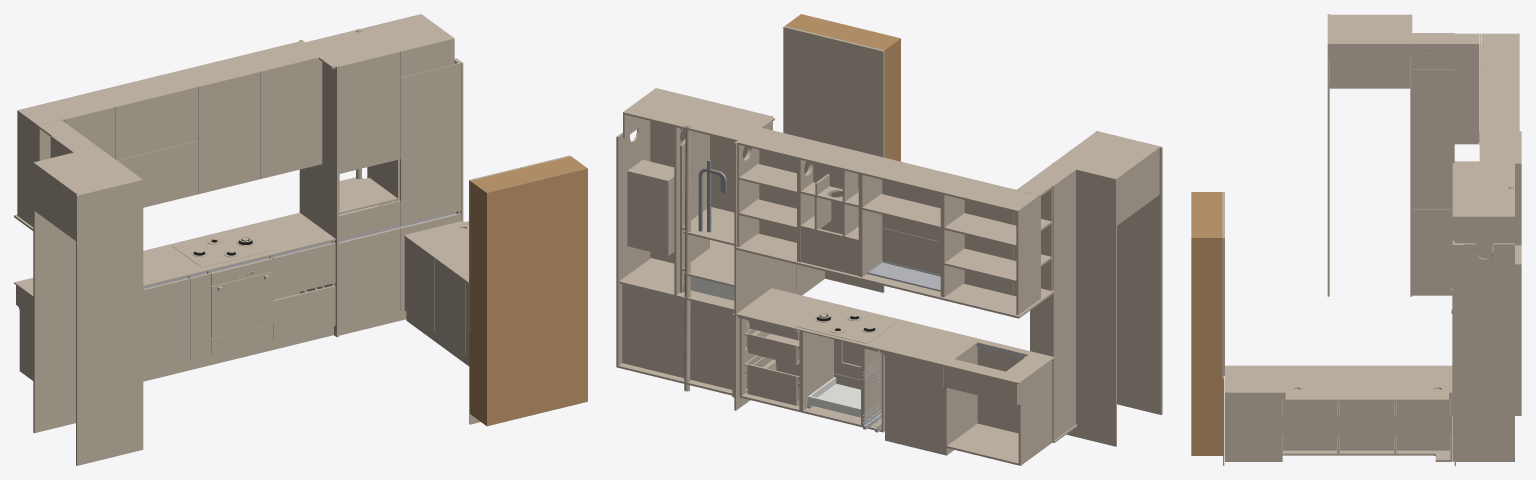
The model's file is bctr.glb.
3 renders of one model, left to right at view 1: azimuth 30°, elevation 25°; view 2: azimuth 150°, elevation 25°; view 3: azimuth 270°, elevation 25°, orthographic. The views are drawn at different scales.
Parts seen in each view (by area): view 1: Вертикальная11 18 mm (×6), Фронтальная15 18 mm, Вертикальная6 18 mm, Вертикальная7 18 mm, Фронтальная8 18 mm, Фронтальная7 18 mm, Вертикальная1 18 mm (×2), Фронтальная 18 mm (×2), Горизонтальная7 12 mm, Фронтальная4 18 mm, Горизонтальная3 18 mm (×3), Фронтальная11 18 mm (+22 smaller); view 2: Вертикальная7 18 mm (×2), Фронтальная17 22 mm (×2), Вертикальная6 18 mm (×2), Вертикальная2 18 mm (×5), Фронтальная24 18 mm, Горизонтальная7 12 mm, Горизонтальная18 18 mm (×5), Вертикальная1 18 mm (×2), Вертикальная27 18 mm, Вертикальная4 18 mm (×3), cut0_0, Горизонтальная3 18 mm (×3) (+28 smaller); view 3: Вертикальная2 18 mm, Вертикальная13 18 mm (×2), Горизонтальная12 12 mm, Фронтальная1 18 mm, Горизонтальная3 18 mm (×3), Вертикальная14 18 mm, Горизонтальная4 18 mm, Вертикальная22 18 mm, Горизонтальная9 18 mm (×2), Вертикальная23 18 mm, Вертикальная24 18 mm, Вертикальная25 18 mm (+16 smaller).
Part boxes in pixels (<box>): Вертикальная11 18 mm (×6): <box>338,37,460,325</box>; Фронтальная15 18 mm: <box>486,167,587,424</box>; Вертикальная6 18 mm: <box>76,179,143,465</box>; Вертикальная7 18 mm: <box>33,146,98,433</box>; Фронтальная8 18 mm: <box>259,56,322,178</box>; Фронтальная7 18 mm: <box>197,71,259,194</box>; Вертикальная1 18 mm (×2): <box>16,39,338,378</box>; Фронтальная 18 mm (×2): <box>272,242,335,340</box>; Горизонтальная7 12 mm: <box>14,212,335,297</box>; Фронтальная4 18 mm: <box>114,86,197,160</box>; Горизонтальная3 18 mm (×3): <box>19,41,318,124</box>; Фронтальная11 18 mm: <box>143,278,190,372</box>; Вертикальная7 18 mm (×2): <box>1031,163,1116,446</box>; Фронтальная17 22 mm (×2): <box>783,26,884,157</box>; Вертикальная6 18 mm (×2): <box>1031,131,1162,414</box>; Вертикальная2 18 mm (×5): <box>616,120,977,445</box>; Фронтальная24 18 mm: <box>622,284,734,389</box>; Горизонтальная7 12 mm: <box>736,288,1054,384</box>; Горизонтальная18 18 mm (×5): <box>739,164,1016,282</box>; Вертикальная1 18 mm (×2): <box>734,116,1051,463</box>; Вертикальная27 18 mm: <box>1053,170,1074,439</box>; Вертикальная4 18 mm (×3): <box>737,128,964,297</box>; cut0_0: <box>884,353,953,455</box>; Горизонтальная3 18 mm (×3): <box>739,128,1035,212</box>; Вертикальная2 18 mm: <box>1454,243,1514,459</box>; Вертикальная13 18 mm (×2): <box>1412,69,1454,286</box>; Горизонтальная12 12 mm: <box>1225,365,1452,400</box>; Фронтальная1 18 mm: <box>1193,237,1222,453</box>; Горизонтальная3 18 mm (×3): <box>1481,34,1519,161</box>; Вертикальная14 18 mm: <box>1330,43,1409,88</box>; Горизонтальная4 18 mm: <box>1454,161,1514,218</box>; Вертикальная22 18 mm: <box>1227,395,1280,459</box>; Горизонтальная9 18 mm (×2): <box>1329,14,1452,44</box>; Вертикальная23 18 mm: <box>1396,401,1449,450</box>; Вертикальная24 18 mm: <box>1340,401,1393,450</box>; Вертикальная25 18 mm: <box>1283,401,1336,450</box>.
Bounding box in the file's own units: 4520 × 2499 × 2956.
